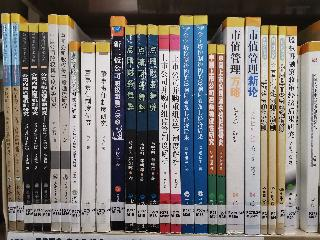book-spine: (224, 16, 246, 234), (78, 42, 98, 233), (244, 17, 261, 236), (0, 12, 17, 229), (46, 14, 62, 234), (10, 13, 26, 231), (180, 16, 196, 233), (110, 15, 126, 231), (17, 21, 33, 232), (193, 15, 208, 234), (94, 41, 111, 233), (28, 22, 43, 232), (146, 24, 161, 234), (168, 26, 183, 234), (38, 23, 52, 231), (157, 25, 171, 233), (283, 26, 297, 234), (58, 15, 71, 233), (265, 23, 278, 236), (124, 24, 137, 232), (305, 42, 319, 233), (136, 25, 148, 233), (276, 26, 287, 235), (68, 42, 80, 232), (292, 45, 304, 229), (207, 43, 218, 236), (260, 26, 270, 235), (216, 44, 226, 234)
